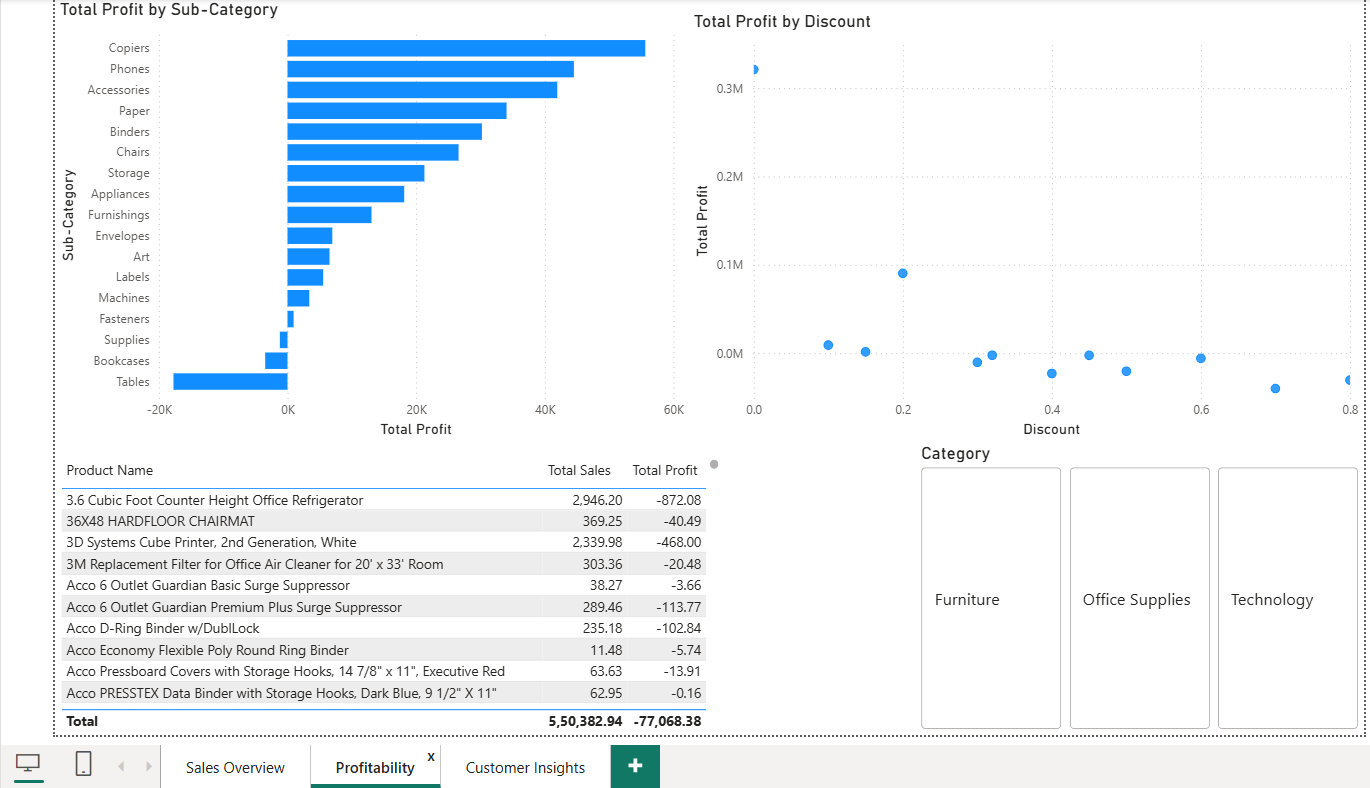

What the dashboard file says about the page in this screenshot:
{"tool":"powerbi","page":{"name":"Profitability","canvas":[1280,720],"ordinal":1},"visuals":[{"type":"barChart","fields":{"Y":["clean_superstore.Total Profit"],"Category":["clean_superstore.Sub-Category"]},"box":[0,0,620.2,433.6],"z":0},{"type":"scatterChart","fields":{"Y":["clean_superstore.Total Profit"],"X":["clean_superstore.Discount"]},"box":[620.2,11,660,422.6],"z":1000},{"type":"tableEx","fields":{"Values":["clean_superstore.Product Name","clean_superstore.Total Sales","clean_superstore.Total Profit"]},"box":[0,444.7,654.2,275.4],"z":2000},{"type":"advancedSlicerVisual","fields":{"Values":["clean_superstore.Category"]},"box":[842.3,433.9,438,286.1],"z":2001}]}

Visuals, with their boxes on the page's 1280x720 design canvas (x1, y1, x2, y2). These are canvas units, not pixel positions in the 1370x788 screenshot, which may show the page scaled, cropped or inside an application window:
barChart - clean_superstore.Total Profit x clean_superstore.Sub-Category: x1=0 y1=0 x2=620 y2=434
scatterChart - clean_superstore.Total Profit x clean_superstore.Discount: x1=620 y1=11 x2=1280 y2=434
tableEx - clean_superstore.Product Name x clean_superstore.Total Sales: x1=0 y1=445 x2=654 y2=720
advancedSlicerVisual - clean_superstore.Category: x1=842 y1=434 x2=1280 y2=720
